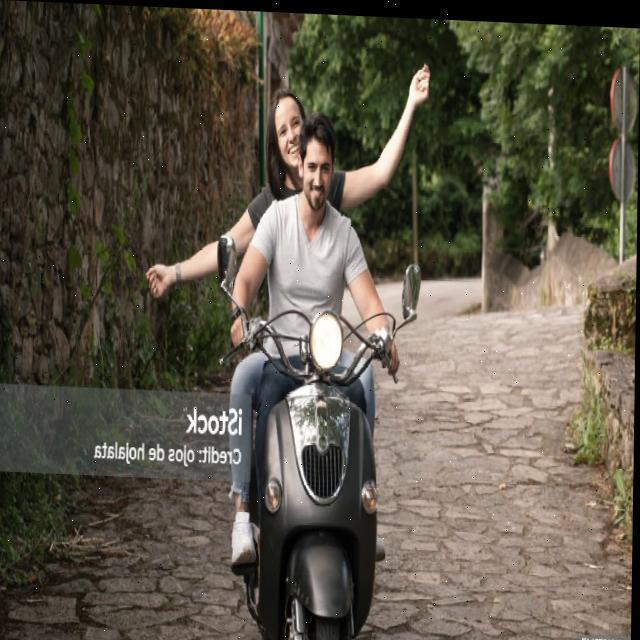without helmet: (263, 65, 340, 215)
